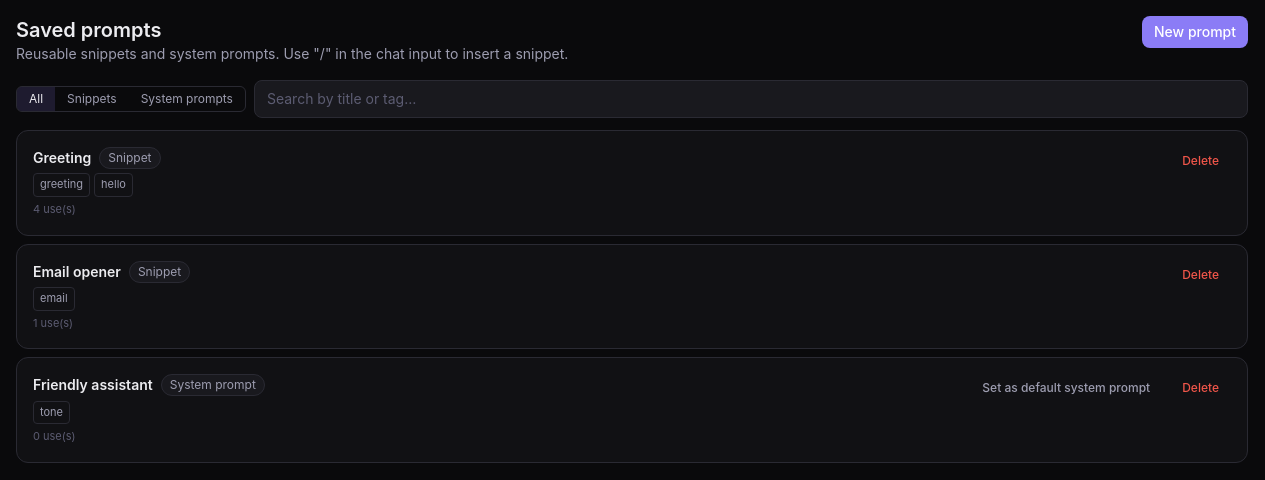
PromptLibraryPanel filter by kind › system_prompts filter hides snippet rows
The width and height of the screenshot is (1265, 480).
Check: the list item with test id "prompt-row-snip-a" is shown, box [16,130,1248,236]
What coordinates should you click on to do the following:
click the button with test id "prompt-filter-system_prompt"
I would click on:
 (187, 99)
Its box is [129,87,245,111].
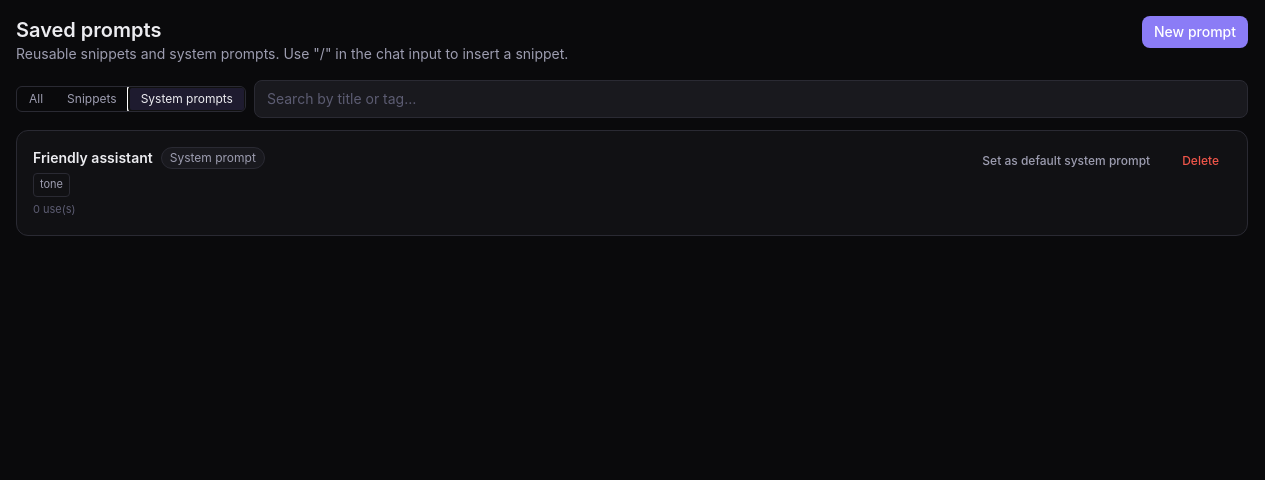
Check: the list item with test id "prompt-row-sys-a" is shown, box [16,130,1248,236]
Check: the list item with test id "prompt-row-snip-a" is gone
